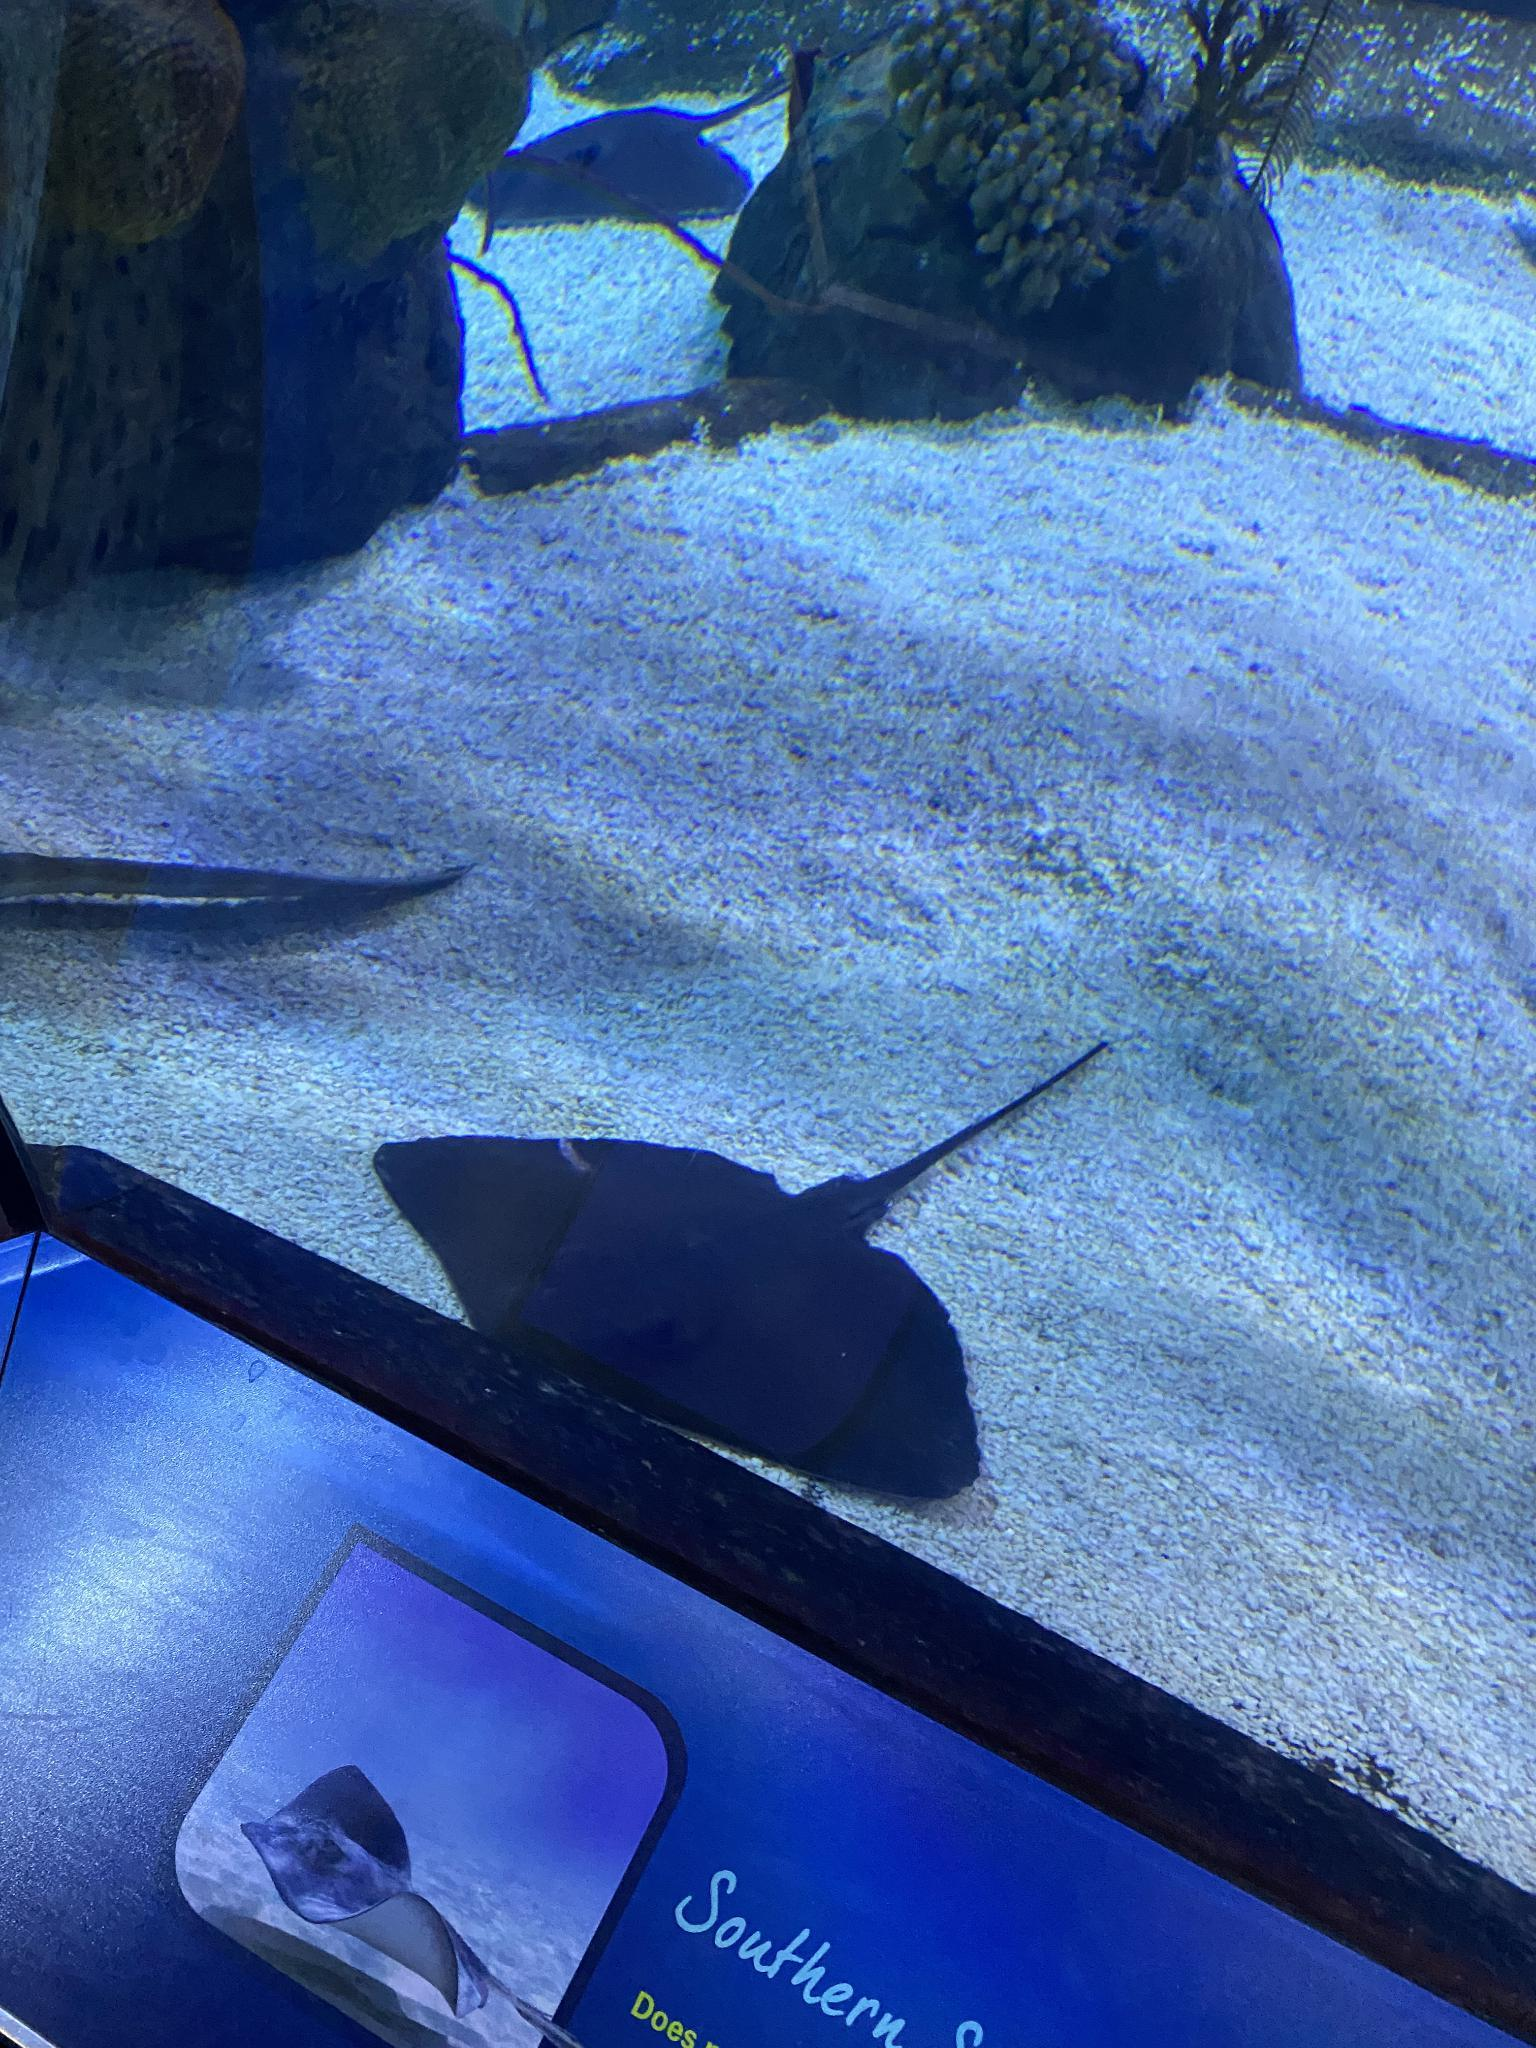stingray: (379, 1138, 984, 1505), (470, 105, 750, 227)
